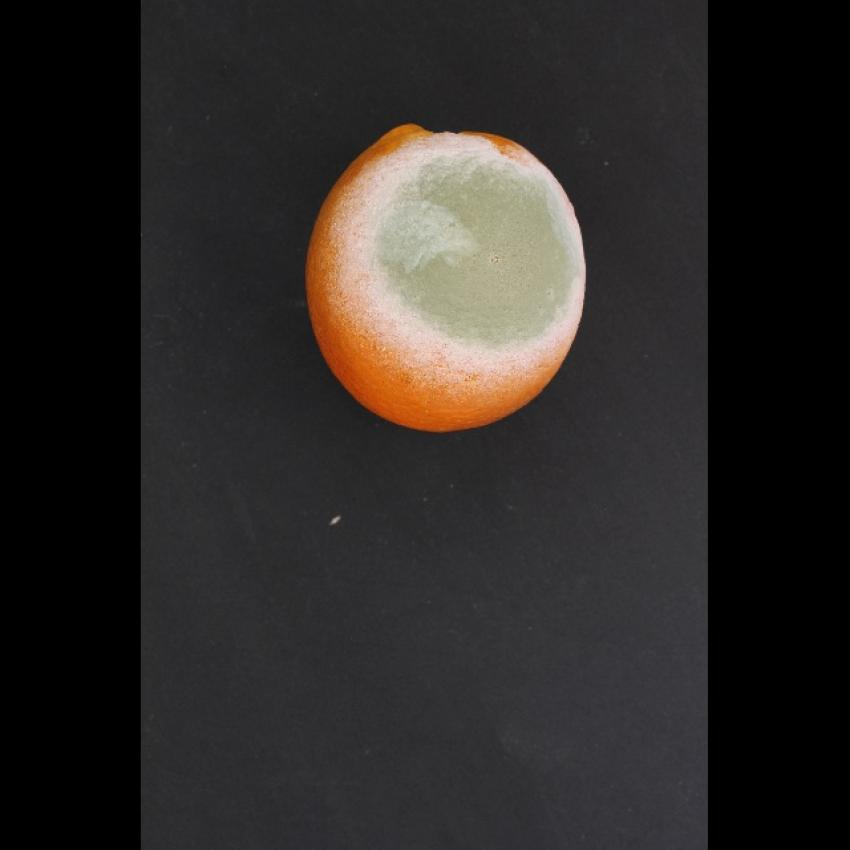Mal estado: (301, 110, 594, 444)
